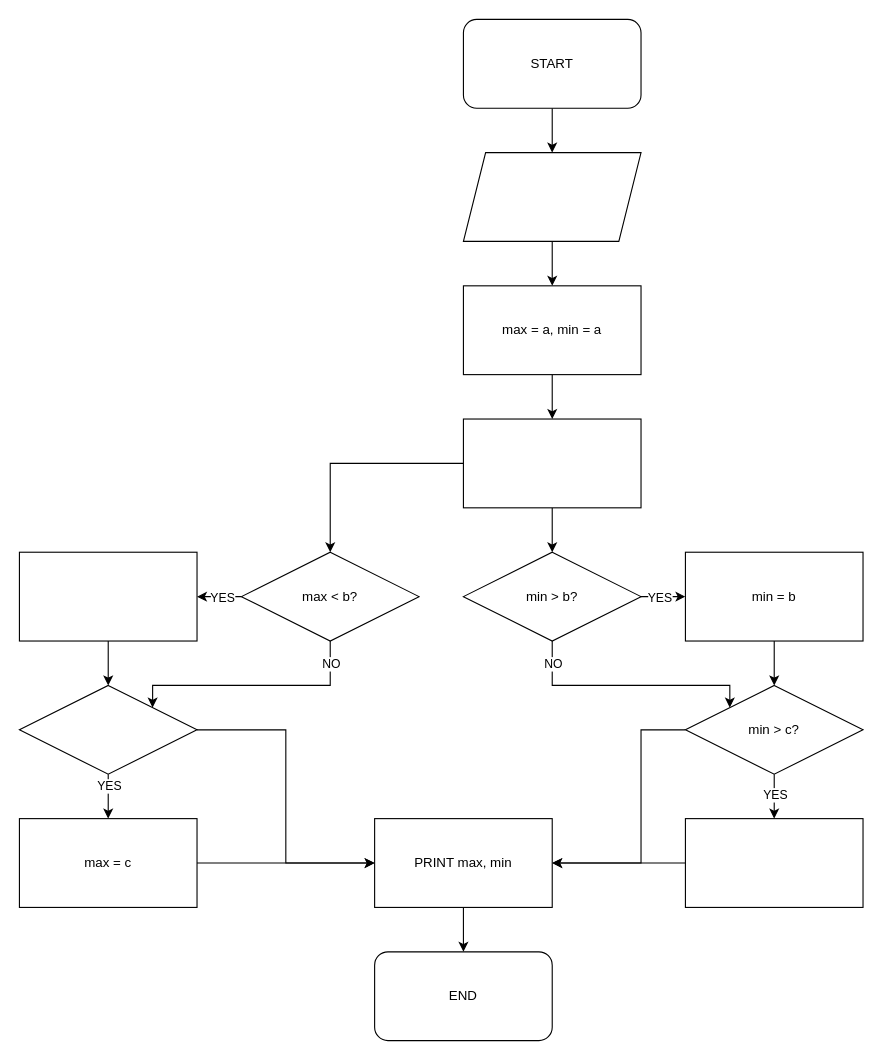
Some shapes in this 882 by 1060 pixel diagram are drawn without their labels. The shapes that lost their labels are listed below. From the top down, each one's centre as x and y in pixels, then its label:
At pixel 551 196: "int a, b, c; int max, min;".
At pixel 551 463: "INPUT a, b, c".
At pixel 107 596: "max = b".
At pixel 107 729: "max < c?".
At pixel 773 862: "min = c".
